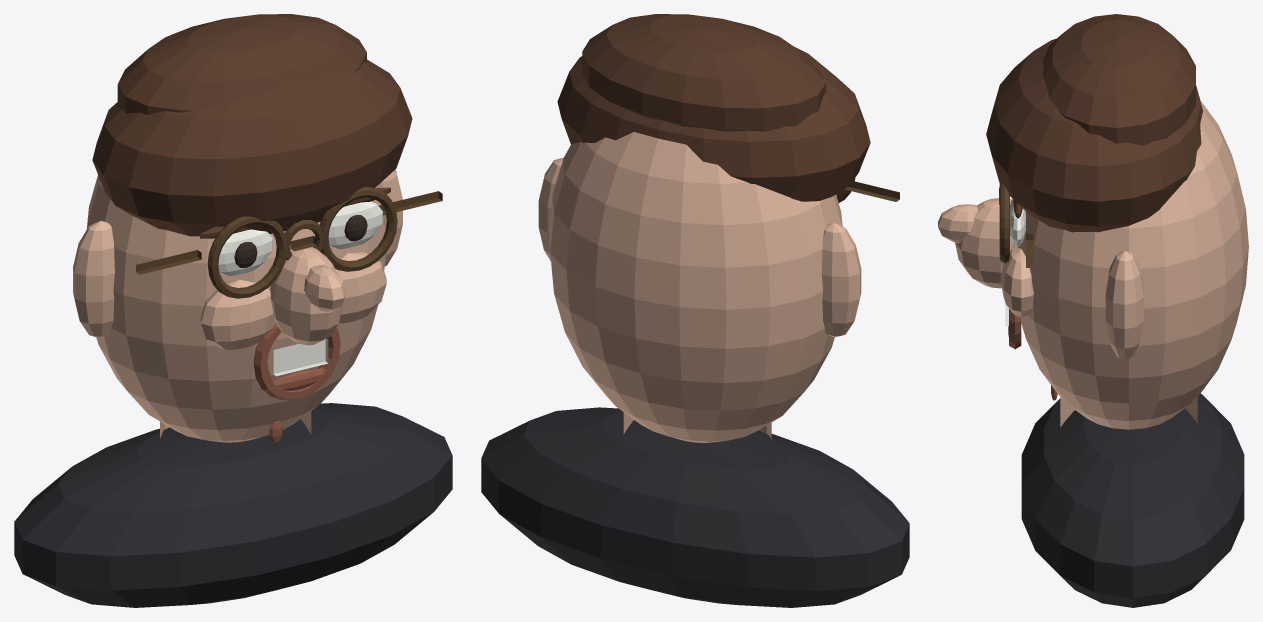
The model's file is rachel_maddow_face.glb.
The picture shows the model from 3 angles, left to right: view 1: azimuth 30°, elevation 25°; view 2: azimuth 150°, elevation 25°; view 3: azimuth 270°, elevation 25°; orthographic projection. The views are drawn at different scales.
Bounding box in the file's own units: 2.18 × 2.77 × 1.5.
